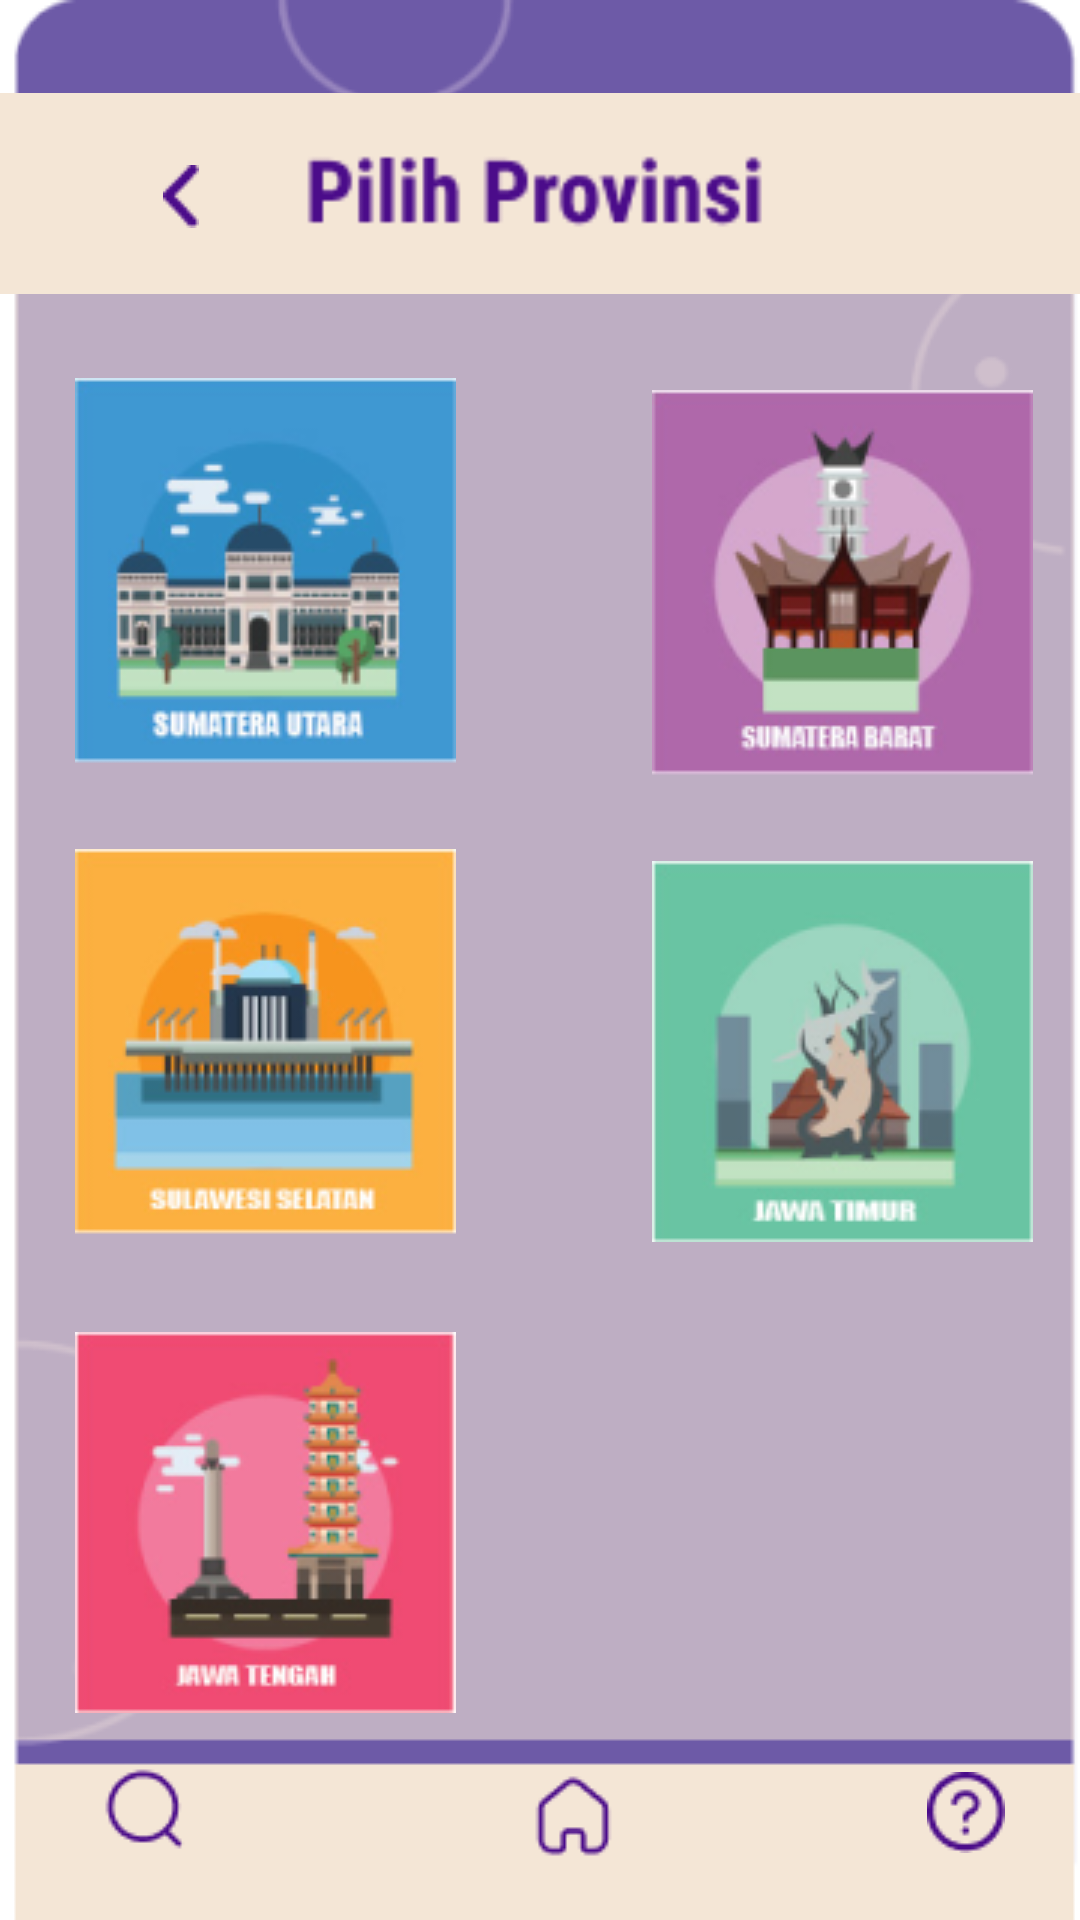

Named icons in this screenshot (1080px x 1920px) and their bounding boxes, (x1, y1, x2, y2):
home: (501, 1744, 645, 1856)
questionmark: (894, 1740, 1038, 1853)
search: (73, 1737, 217, 1849)
